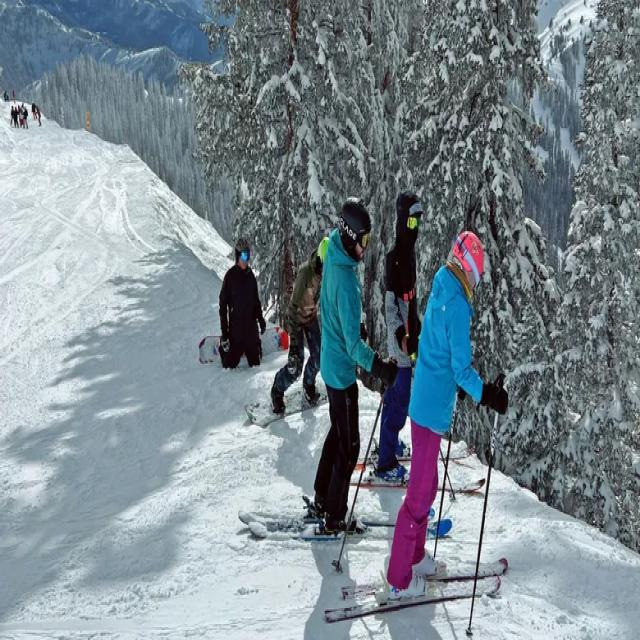skier: (323, 231, 507, 638), (239, 201, 454, 547), (345, 190, 490, 494)
snowboarder: (245, 239, 345, 425), (193, 243, 290, 368)
